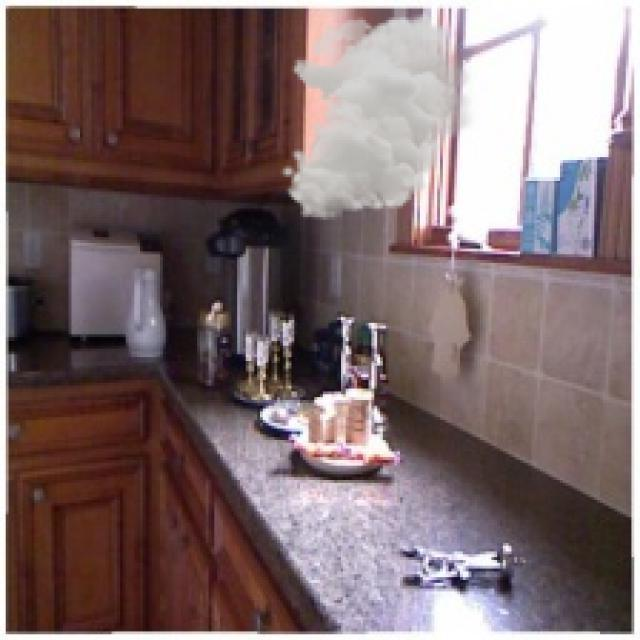Smoke: (280, 11, 480, 220)
